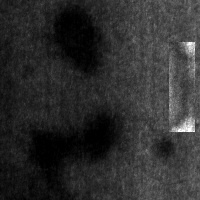patches: (28, 127, 110, 191), (51, 4, 104, 73), (76, 109, 126, 162), (169, 42, 195, 132), (151, 136, 177, 162)
